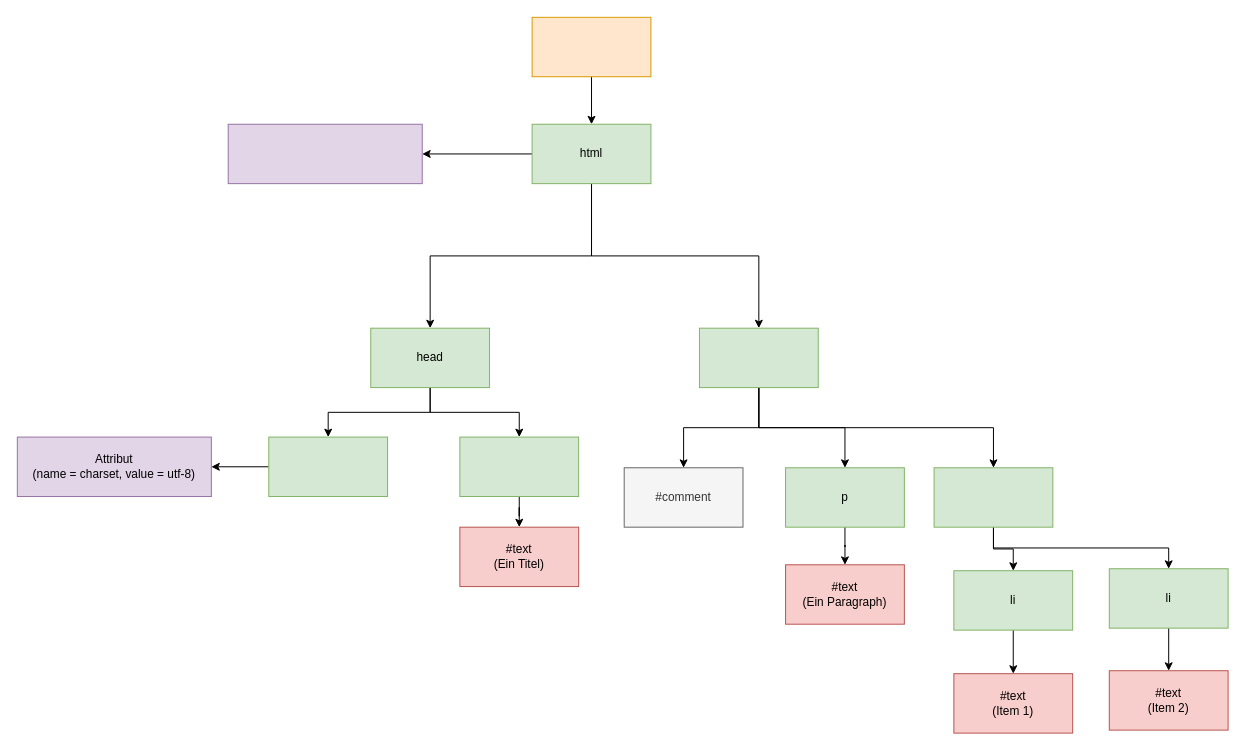
Image size: 1245x750. Some labels were removed from this diagram. Here are the shapes that lost their labels. From the top down, the centre of each, then its label:
At (591,46): "Dokument".
At (324,153): "Attribut (name = lang, value = en)".
At (758,357): "body".
At (328,466): "meta (Element)".
At (519,466): "title (HTMLElement)".
At (993,497): "ul".
